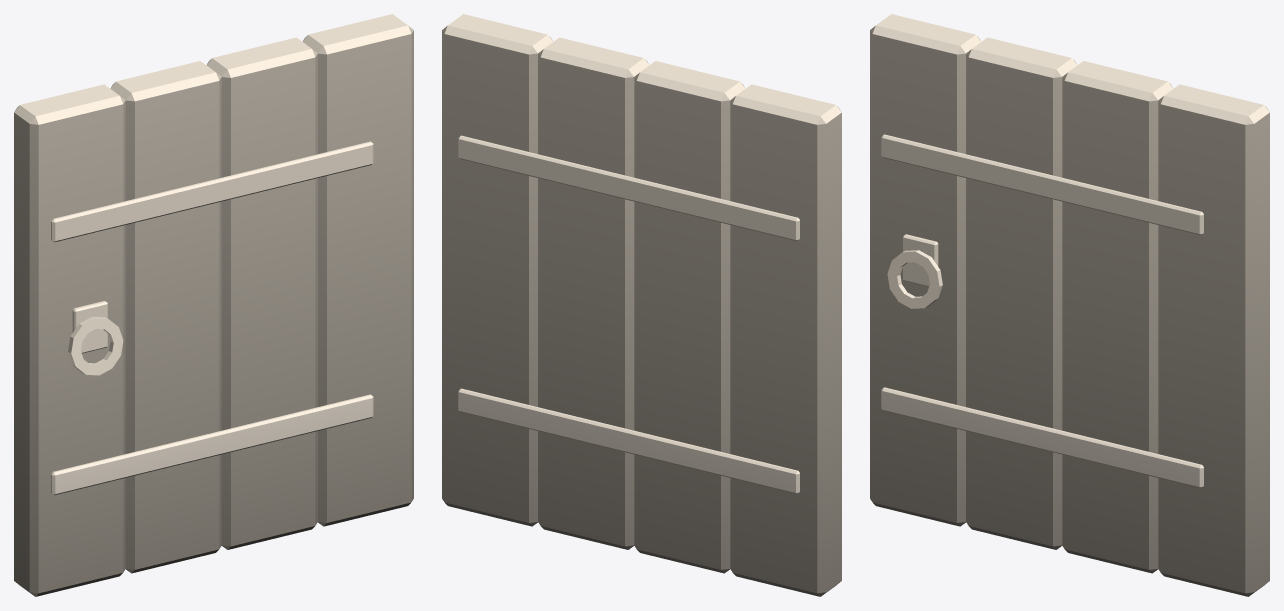
The model's file is SM_VKI_Leaf_Wide160_Cut_R.fbx.
3 renders of one model, left to right at view 1: azimuth 30°, elevation 25°; view 2: azimuth 150°, elevation 25°; view 3: azimuth 330°, elevation 25°, orthographic.
Visible parts, largest first — view 1: SM_VKI_Leaf_Wide160_Cut_R.001; view 2: SM_VKI_Leaf_Wide160_Cut_R.001; view 3: SM_VKI_Leaf_Wide160_Cut_R.001.
Boxes of the visible parts, box(x1,y1,x2,y2) form: SM_VKI_Leaf_Wide160_Cut_R.001: box(14, 14, 413, 596); SM_VKI_Leaf_Wide160_Cut_R.001: box(442, 14, 841, 596); SM_VKI_Leaf_Wide160_Cut_R.001: box(870, 14, 1269, 596).
Bounding box in the file's own units: 0.795 × 0.95 × 0.1309.
